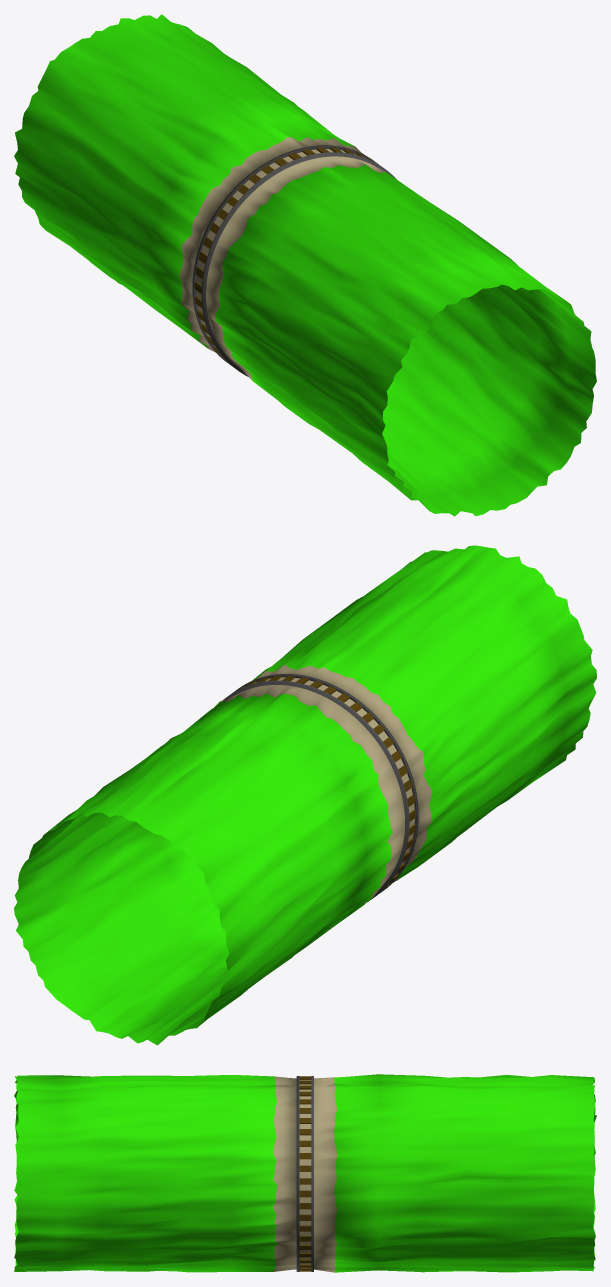
File: driveWorld.fbx
3 views of the same model, one above another, from view 1: azimuth 30°, elevation 25°; view 2: azimuth 150°, elevation 25°; view 3: azimuth 270°, elevation 25° (orthographic). The views are drawn at different scales.
Visible parts, largest first — view 1: driveWorld; view 2: driveWorld; view 3: driveWorld.
Boxes of the visible parts, box(x1,y1,x2,y2) form: driveWorld: box(14, 14, 596, 516); driveWorld: box(14, 545, 596, 1045); driveWorld: box(14, 1074, 596, 1272).
Size of the model in its own units: 207 by 206 by 605.
